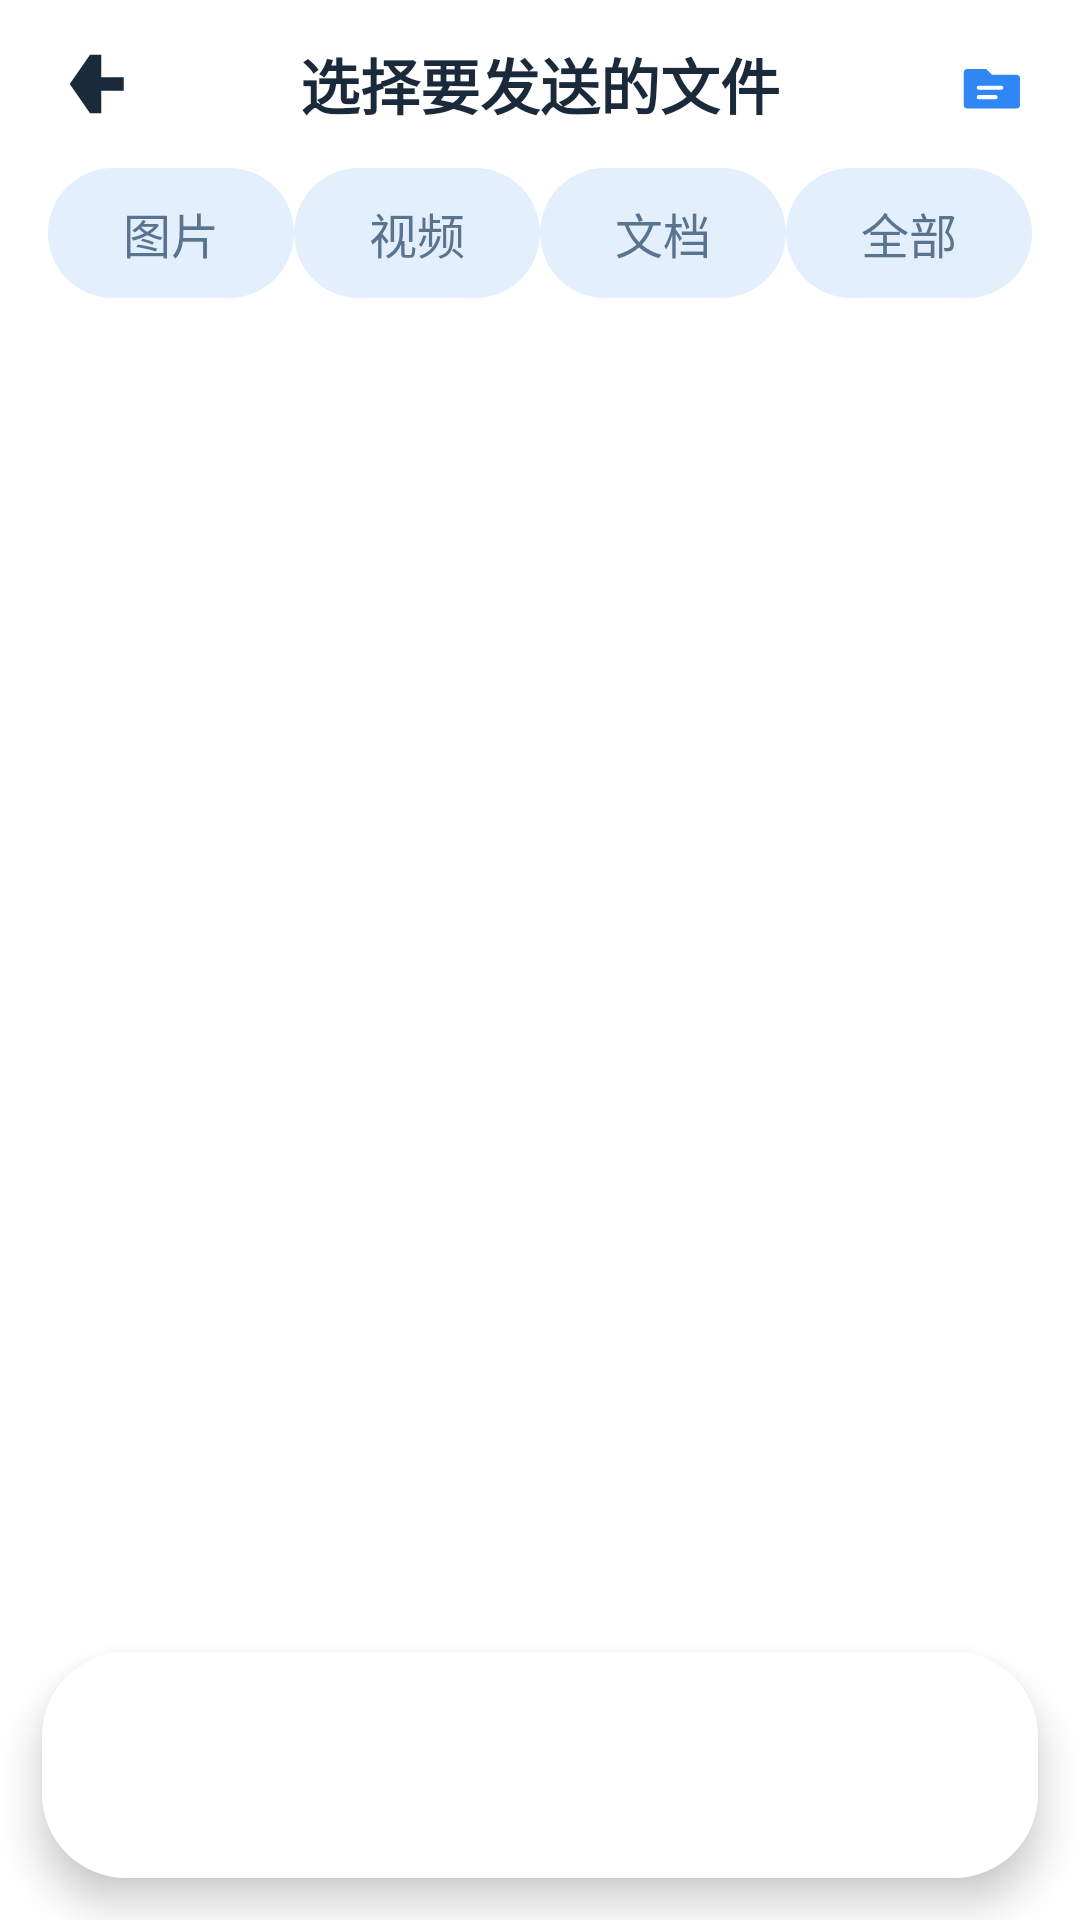

Named icons in this screenshot (1080 x 1920) and their centers, [x,y]:
back: [97,84]
folder: [991,89]
